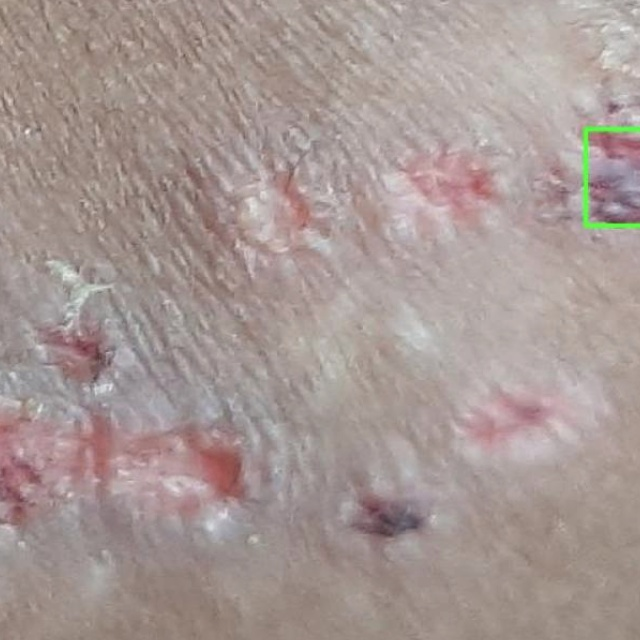Eczema: (586, 128, 639, 225)
